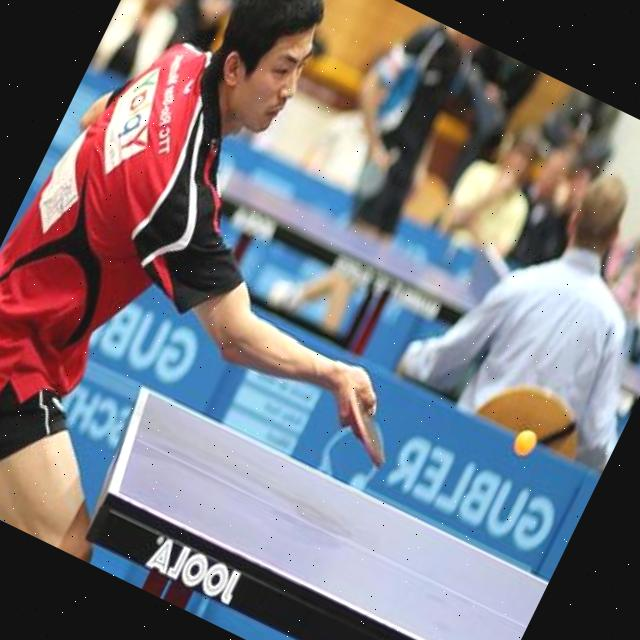ping-pong-ball: (509, 425, 540, 459)
